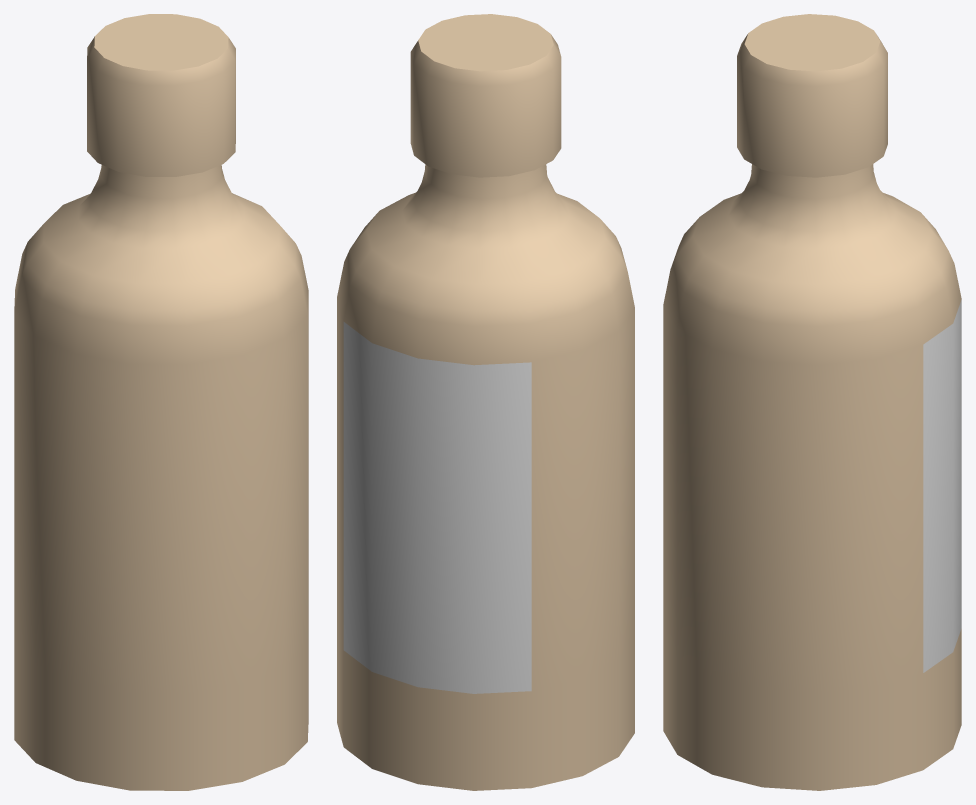
File: Bouteille_3.fbx
3 renders of one model, left to right at view 1: azimuth 30°, elevation 25°; view 2: azimuth 150°, elevation 25°; view 3: azimuth 270°, elevation 25°, orthographic.
Parts seen in each view (by area): view 1: TAG_bouteille3; view 2: TAG_bouteille3; view 3: TAG_bouteille3.
Part boxes in pixels (x1,y1,x2,y2): TAG_bouteille3: [14, 14, 308, 790]; TAG_bouteille3: [337, 14, 634, 790]; TAG_bouteille3: [663, 14, 961, 790].
Size of the model in its own units: 0.1383 by 0.1383 by 0.3503.
